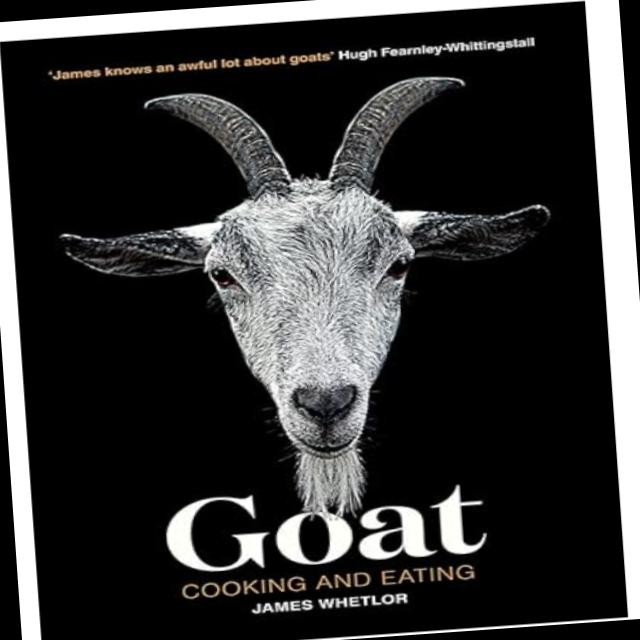titles-or-authors: (147, 473, 499, 608), (233, 586, 421, 620)
